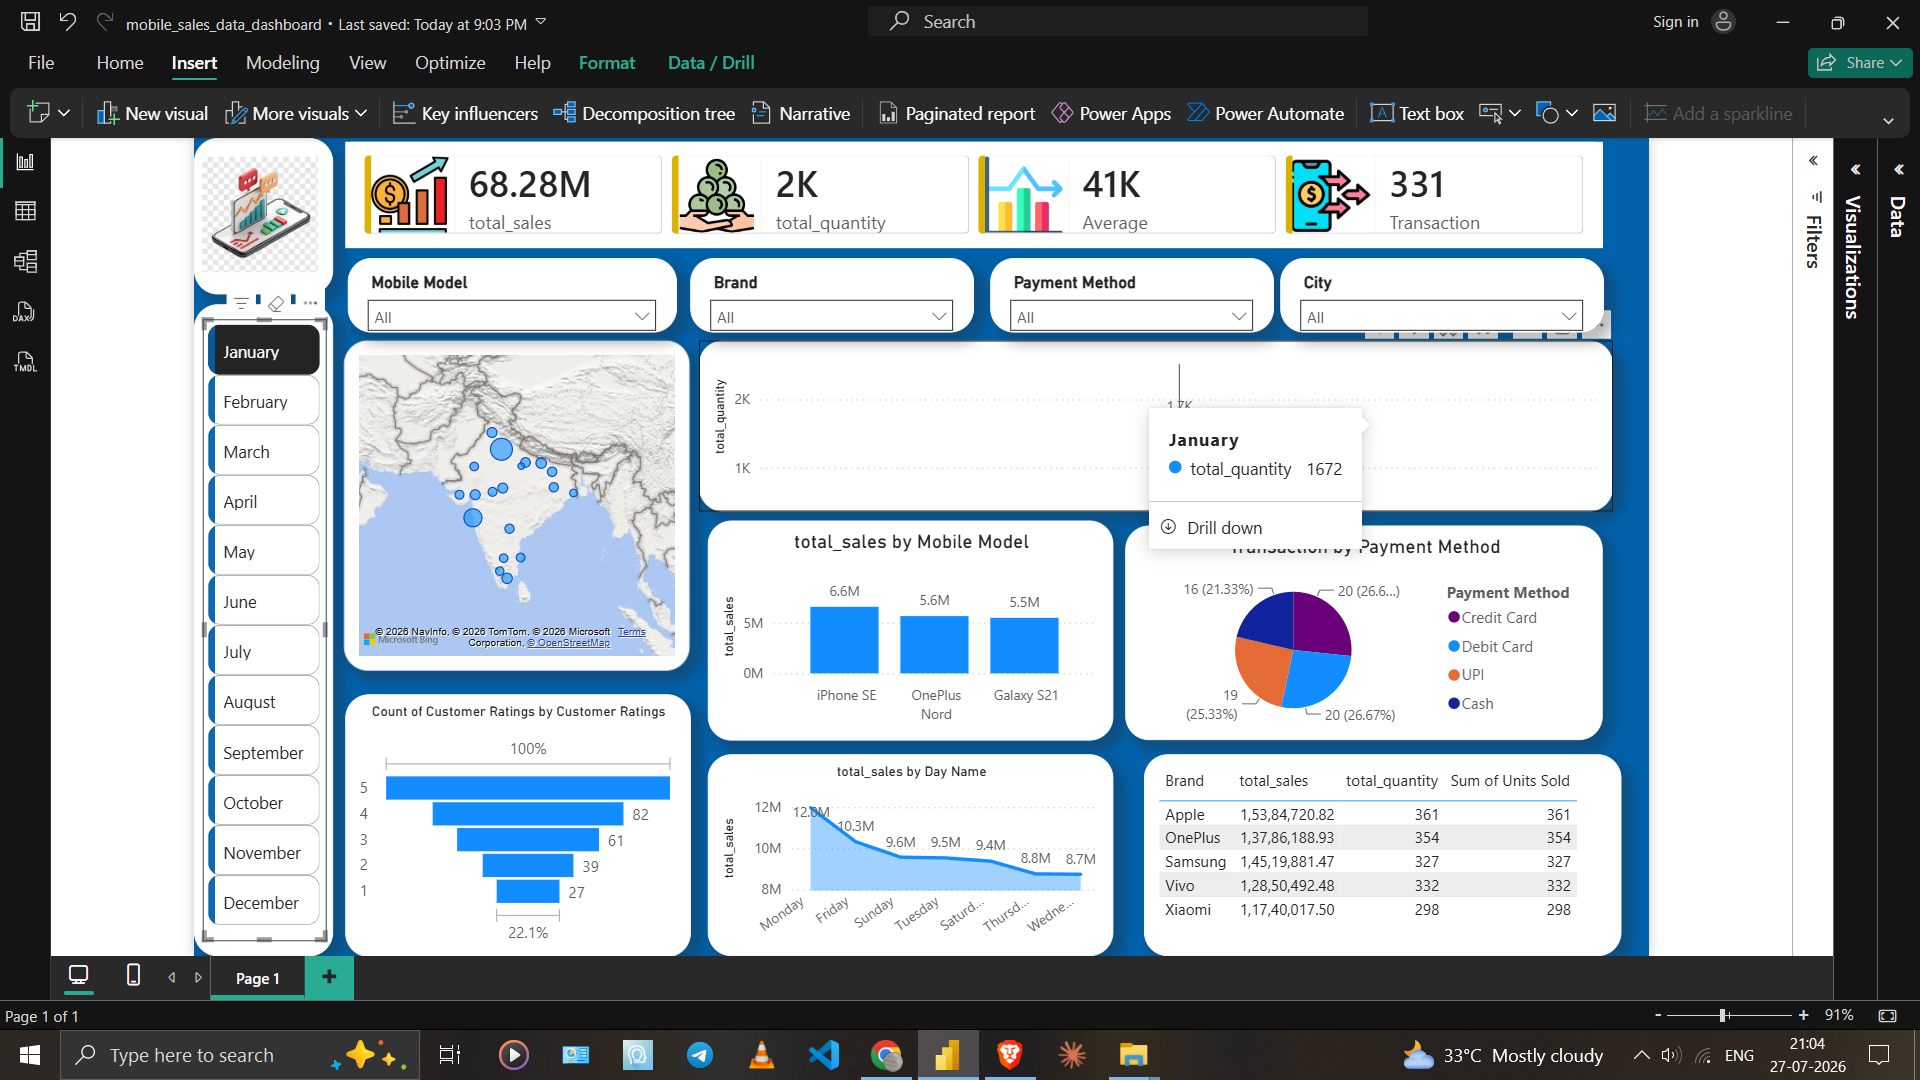

The dashboard page shown, as its layout file describes it:
{"tool":"powerbi","page":{"name":"Page 1","canvas":[1280,720],"ordinal":0},"visuals":[{"type":"shape","box":[0,0,122.3,138],"z":0},{"type":"shape","box":[0,146.5,122.3,573.8],"z":2000},{"type":"advancedSlicerVisual","fields":{"Values":["sales_data.Date.Variation.Date Hierarchy.Month"]},"box":[7.3,159.8,108.9,547.1],"z":3000},{"type":"cardVisual","fields":{"Data":["sales_data.total_sales","sales_data.total_quantity","sales_data.transaction","sales_data.Transaction"]},"box":[133.2,3.6,1106.4,93.2],"z":4000},{"type":"map","fields":{"Category":["sales_data.City"],"Size":["sales_data.total_sales"]},"box":[131.9,177.9,303.8,290.5],"z":5000},{"type":"lineChart","fields":{"Category":["sales_data.Date.Variation.Date Hierarchy.Month","sales_data.Date.Variation.Date Hierarchy.Day"],"Y":["sales_data.total_quantity"]},"box":[444.2,178.1,803.8,150.1],"z":6000},{"type":"columnChart","fields":{"Category":["sales_data.Mobile Model"],"Y":["sales_data.total_sales"]},"box":[451.5,336.5,356.8,193.5],"z":7000},{"type":"pieChart","fields":{"Category":["sales_data.Payment Method"],"Y":["sales_data.Transaction"]},"box":[819.5,341.4,420,188.8],"z":8000},{"type":"funnel","fields":{"Category":["sales_data.Customer Ratings"],"Y":["CountNonNull(sales_data.Customer Ratings)"]},"box":[133.2,489,303.8,231.2],"z":9000},{"type":"areaChart","fields":{"Category":["sales_data.Day Name"],"Y":["sales_data.total_sales"]},"box":[451.5,542.3,357.1,177.9],"z":10000},{"type":"tableEx","fields":{"Values":["sales_data.Brand","sales_data.total_sales","sales_data.total_quantity","Sum(sales_data.Units Sold)"]},"box":[835.2,542.3,420,177.9],"z":10001},{"type":"slicer","fields":{"Values":["sales_data.Mobile Model"]},"box":[135.6,105.3,289.3,65.4],"z":10002},{"type":"slicer","fields":{"Values":["sales_data.Brand"]},"box":[437,105.3,249.4,65.4],"z":10003},{"type":"slicer","fields":{"Values":["sales_data.Payment Method"]},"box":[700.9,105.3,249.4,65.4],"z":10004},{"type":"slicer","fields":{"Values":["sales_data.City"]},"box":[955.1,105.3,284.5,65.4],"z":10005},{"type":"image","box":[0,16.9,116.2,101.7],"z":10006}]}

Visuals, with their boxes on the page's 1280x720 design canvas (x1, y1, x2, y2). These are canvas units, not pixel positions in the 1920x1080 screenshot, which may show the page scaled, cropped or inside an application window:
shape: [left=0, top=0, right=122, bottom=138]
shape: [left=0, top=146, right=122, bottom=720]
advancedSlicerVisual - sales_data.Date.Variation.Date Hierarchy.Month: [left=7, top=160, right=116, bottom=707]
cardVisual - sales_data.total_sales x sales_data.total_quantity: [left=133, top=4, right=1240, bottom=97]
map - sales_data.City x sales_data.total_sales: [left=132, top=178, right=436, bottom=468]
lineChart - sales_data.Date.Variation.Date Hierarchy.Month x sales_data.Date.Variation.Date Hierarchy.Day: [left=444, top=178, right=1248, bottom=328]
columnChart - sales_data.Mobile Model x sales_data.total_sales: [left=452, top=336, right=808, bottom=530]
pieChart - sales_data.Payment Method x sales_data.Transaction: [left=820, top=341, right=1240, bottom=530]
funnel - sales_data.Customer Ratings x CountNonNull(sales_data.Customer Ratings): [left=133, top=489, right=437, bottom=720]
areaChart - sales_data.Day Name x sales_data.total_sales: [left=452, top=542, right=809, bottom=720]
tableEx - sales_data.Brand x sales_data.total_sales: [left=835, top=542, right=1255, bottom=720]
slicer - sales_data.Mobile Model: [left=136, top=105, right=425, bottom=171]
slicer - sales_data.Brand: [left=437, top=105, right=686, bottom=171]
slicer - sales_data.Payment Method: [left=701, top=105, right=950, bottom=171]
slicer - sales_data.City: [left=955, top=105, right=1240, bottom=171]
image: [left=0, top=17, right=116, bottom=119]
